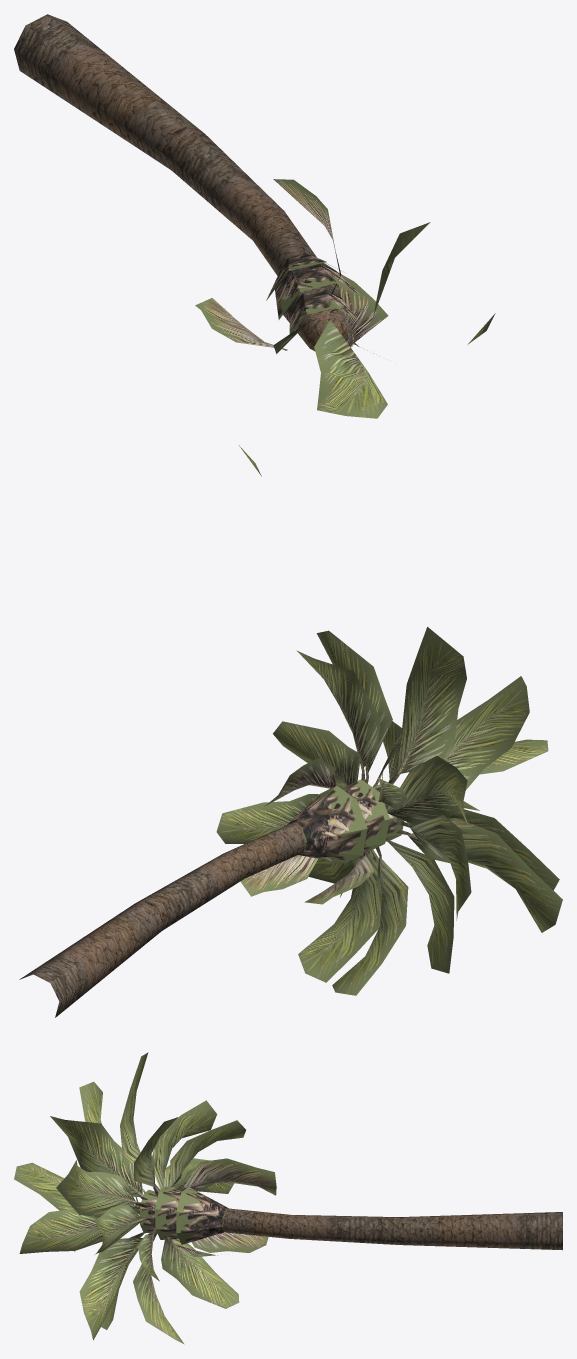
Rendered from tree_desertpalm03.glb.
3 views of the same model, one above another, from view 1: azimuth 30°, elevation 25°; view 2: azimuth 150°, elevation 25°; view 3: azimuth 270°, elevation 25° (orthographic). The views are drawn at different scales.
Size of the model in its own units: 161 by 175 by 327.
2 materials, 2 textured.
